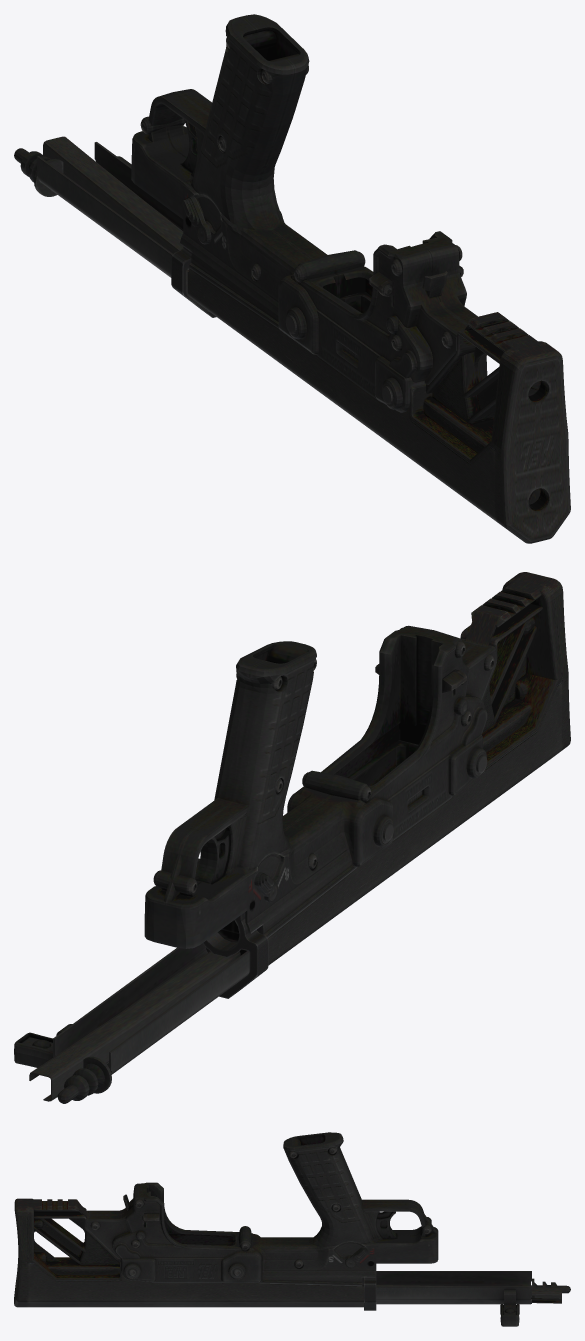
3 views of the same model, one above another, from view 1: azimuth 30°, elevation 25°; view 2: azimuth 150°, elevation 25°; view 3: azimuth 270°, elevation 25° (orthographic). The views are drawn at different scales.
Visible parts, largest first — view 1: TW_5f2a9575926fd9352339381f_PZ_Import; view 2: TW_5f2a9575926fd9352339381f_PZ_Import; view 3: TW_5f2a9575926fd9352339381f_PZ_Import.
Boxes of the visible parts, x1,y1,x2,y2 form: TW_5f2a9575926fd9352339381f_PZ_Import: [14, 14, 570, 543]; TW_5f2a9575926fd9352339381f_PZ_Import: [14, 572, 570, 1103]; TW_5f2a9575926fd9352339381f_PZ_Import: [14, 1132, 570, 1326].
Bounding box in the file's own units: 0.0458 × 0.3113 × 0.1062.
1 material, 1 textured.
